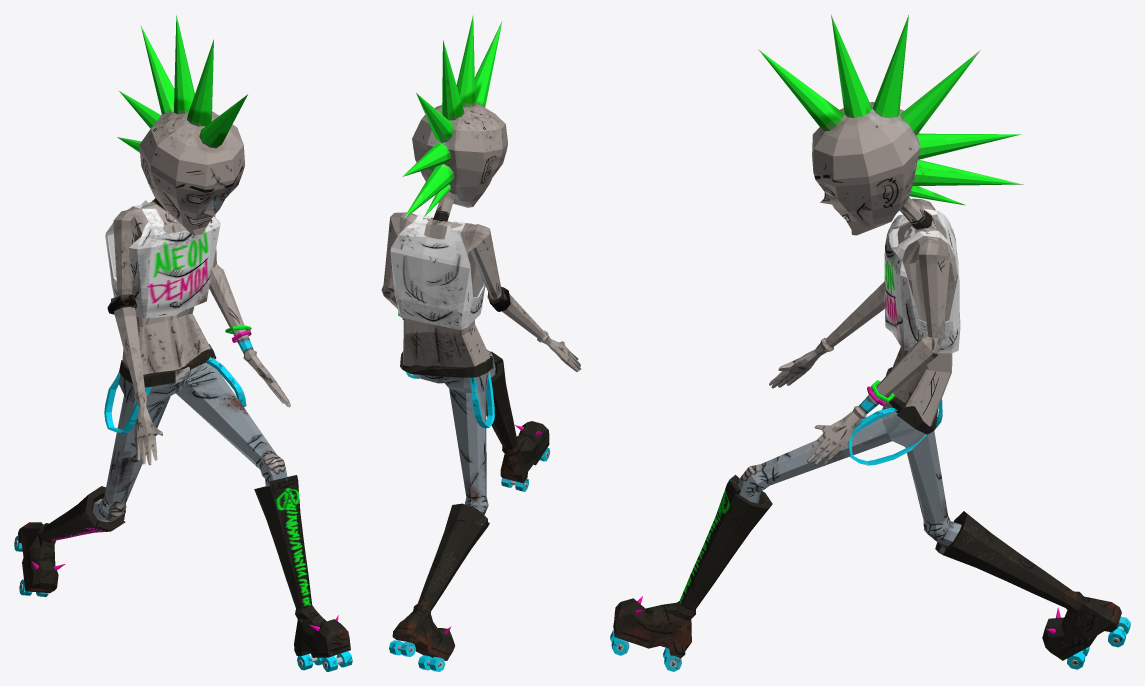
Rendered from punkAnimation_000003.obj.
The picture shows the model from 3 angles, left to right: view 1: azimuth 30°, elevation 25°; view 2: azimuth 150°, elevation 25°; view 3: azimuth 270°, elevation 25°; orthographic projection. The views are drawn at different scales.
Parts seen in each view (by area): view 1: Cube.004_Cube.003; view 2: Cube.004_Cube.003; view 3: Cube.004_Cube.003.
Part boxes in pixels (x1,y1,x2,y2): Cube.004_Cube.003: (14,15,352,671); Cube.004_Cube.003: (381,15,581,671); Cube.004_Cube.003: (610,14,1130,671).
Size of the model in its own units: 1.9 by 6.91 by 4.75.
